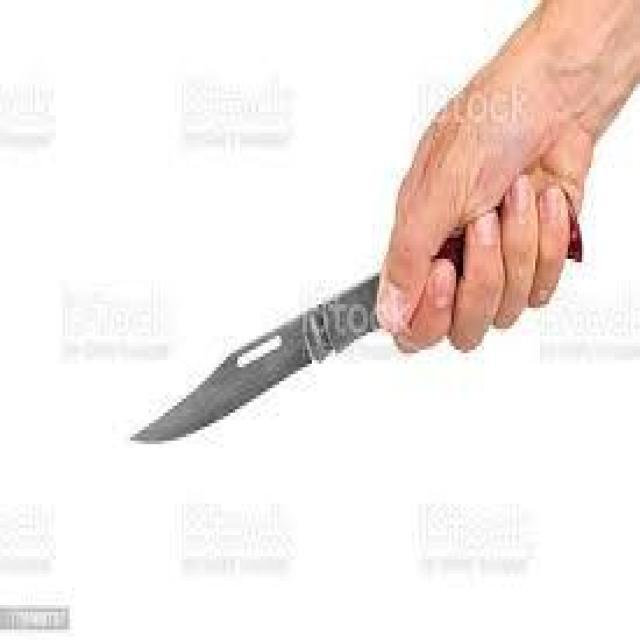faca: (84, 88, 626, 462)
